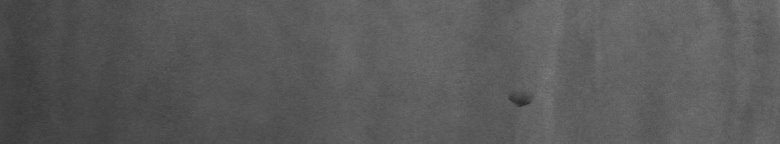fi: (505, 95, 532, 116)
